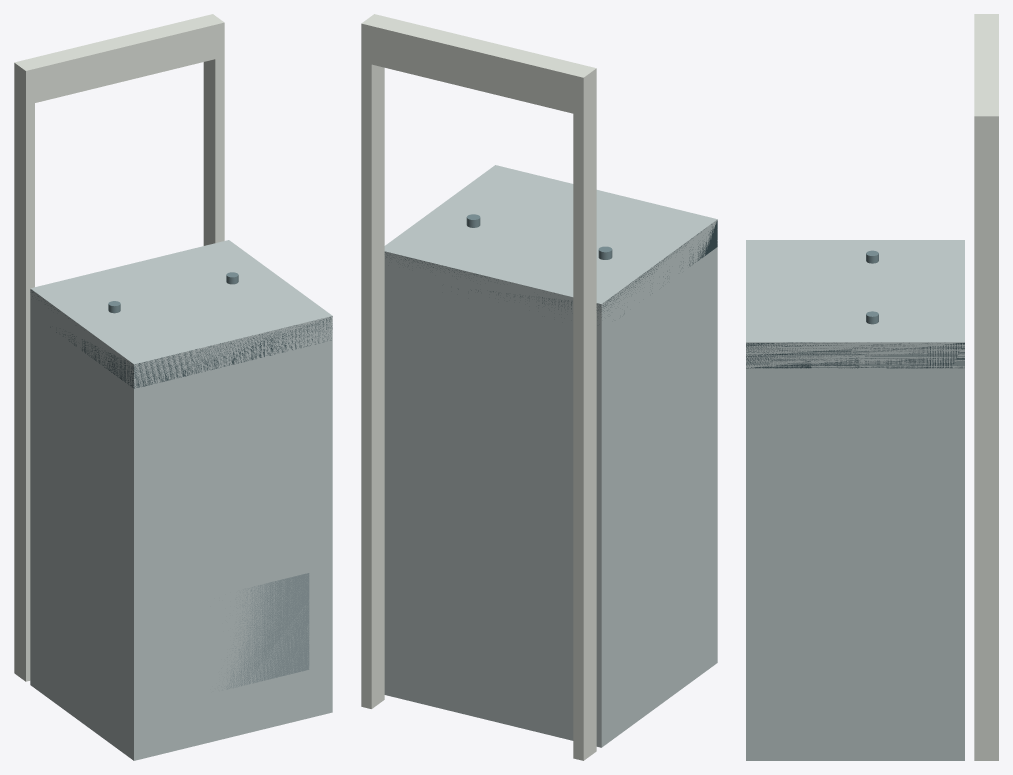
File: load_port.glb
The picture shows the model from 3 angles, left to right: view 1: azimuth 30°, elevation 25°; view 2: azimuth 150°, elevation 25°; view 3: azimuth 270°, elevation 25°; orthographic projection. The views are drawn at different scales.
Parts seen in each view (by area): view 1: port; view 2: port; view 3: port.
Part boxes in pixels (x1,y1,x2,y2): port: (14, 14, 332, 760); port: (361, 14, 717, 760); port: (746, 14, 998, 760).
Size of the model in its own units: 0.472 by 1.39 by 0.493.
